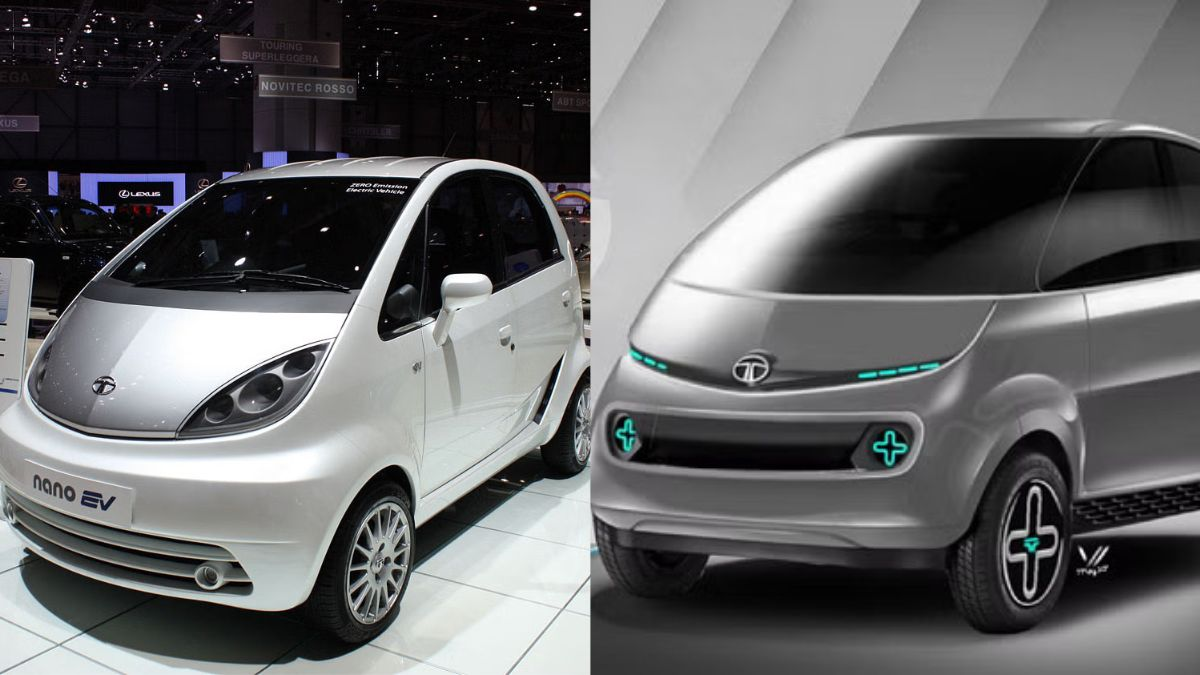Nano: (6, 155, 589, 648)
